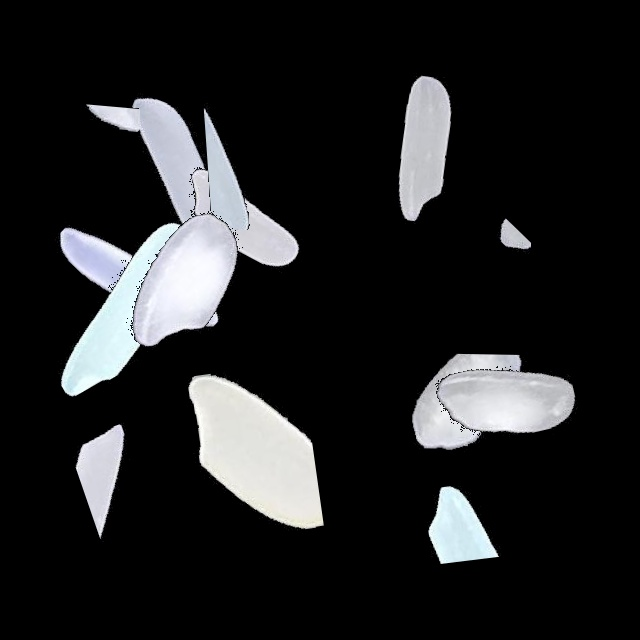Broken: (104, 370, 354, 538), (382, 311, 546, 561), (25, 406, 275, 542), (146, 103, 396, 230), (410, 375, 529, 625), (43, 28, 140, 278), (16, 342, 102, 592), (453, 135, 531, 385)
Full: (11, 156, 261, 406), (48, 45, 298, 295), (300, 23, 550, 273), (118, 95, 368, 345), (1, 184, 251, 434), (380, 274, 630, 524), (59, 161, 309, 411)
